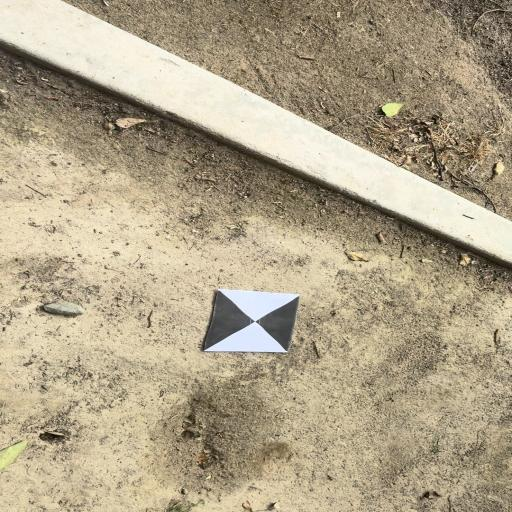target: (205, 289, 301, 353)
